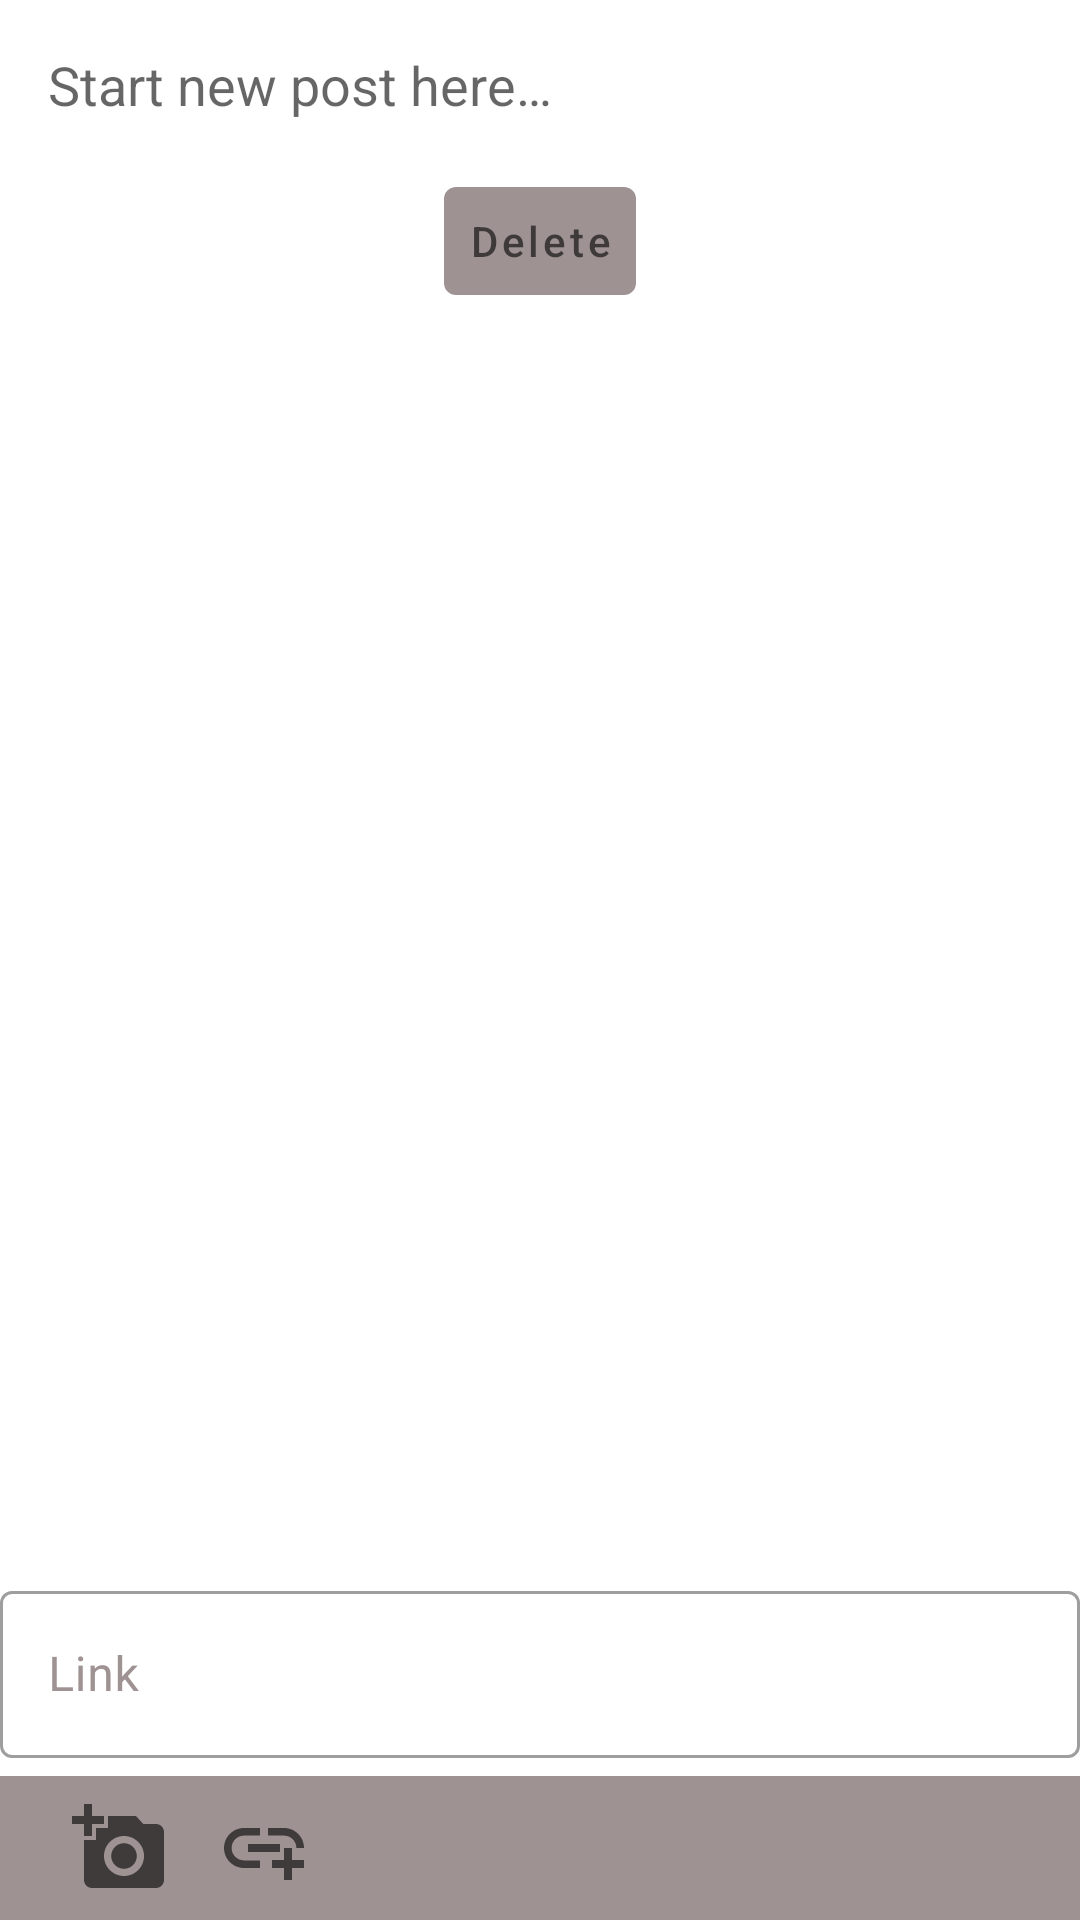

Icons on this 1080x1920 Android screen, each with the point to tap as [x,y]:
Add image from camera: [118,1846]
